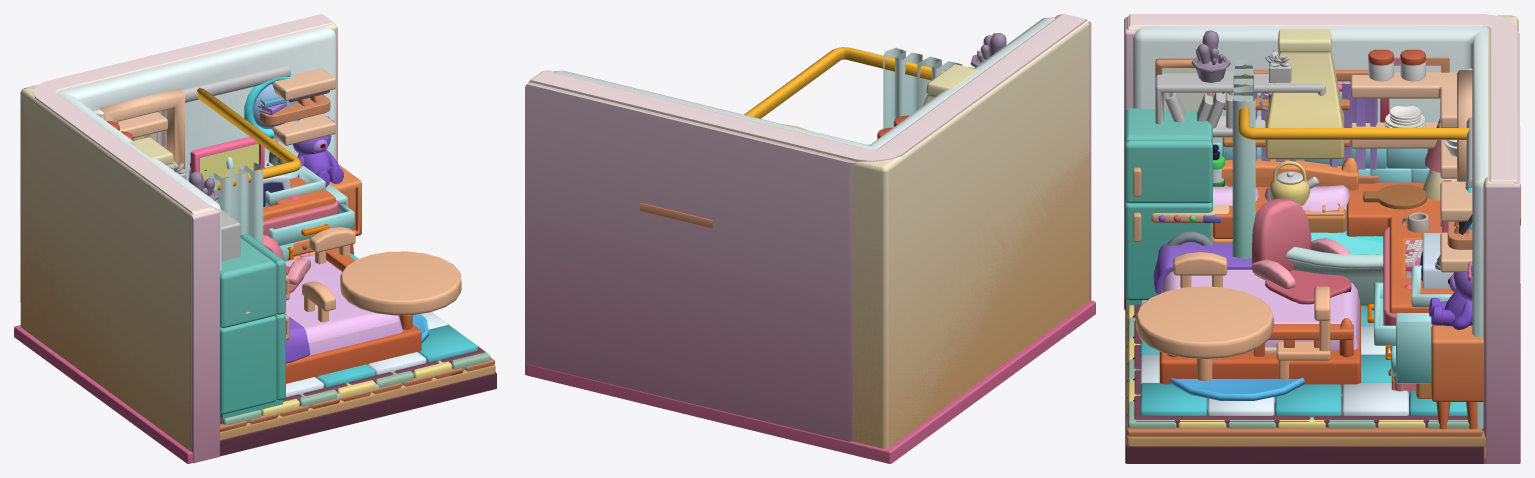
The model's file is Collections.fbx.
3 views of the same model, side by side, from view 1: azimuth 30°, elevation 25°; view 2: azimuth 150°, elevation 25°; view 3: azimuth 270°, elevation 25° (orthographic). The views are drawn at different scales.
Visible parts, largest first — view 1: Base (×5), Fridge, Bed, Floor (×4), Table (×2), Curtain (×2), Shelf (×3), Sink, Sceen, Cabinet, Bear, Mirror (+6 smaller); view 2: Base (×5), Curtain, Rangehood, Tree_01; view 3: Base (×5), Floor (×4), Bed, Fridge, Shelf (×4), Table (×2), Curtain (×2), Rangehood, Cabinet, Chair, Sink, Cabinet_01 (+19 smaller).
Boxes of the visible parts, <box> form: Base (×5): <box>14,14,496,463</box>; Fridge: <box>220,234,289,418</box>; Bed: <box>284,248,421,383</box>; Floor (×4): <box>220,253,494,431</box>; Table (×2): <box>263,200,461,315</box>; Curtain (×2): <box>133,65,301,244</box>; Shelf (×3): <box>118,68,335,261</box>; Sink: <box>263,151,354,260</box>; Sceen: <box>190,136,264,179</box>; Cabinet: <box>226,157,335,258</box>; Bear: <box>293,116,343,187</box>; Mirror: <box>244,74,306,138</box>; Base (×5): <box>525,14,1095,463</box>; Curtain: <box>744,47,974,128</box>; Rangehood: <box>922,64,978,106</box>; Tree_01: <box>970,33,1006,67</box>; Base (×5): <box>1124,14,1520,463</box>; Floor (×4): <box>1126,300,1482,436</box>; Bed: <box>1153,157,1360,387</box>; Fridge: <box>1124,108,1212,305</box>; Shelf (×4): <box>1155,71,1472,272</box>; Table (×2): <box>1135,227,1415,395</box>; Curtain (×2): <box>1232,58,1472,258</box>; Rangehood: <box>1265,29,1344,159</box>; Cabinet: <box>1212,182,1454,390</box>; Chair: <box>1251,198,1351,304</box>; Sink: <box>1367,255,1452,383</box>; Cabinet_01: <box>1431,325,1483,429</box>.
Size of the model in its own units: 1534 by 1196 by 1500.
